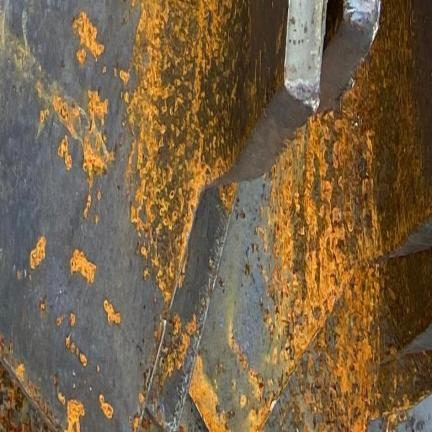karat: (266, 74, 432, 431), (128, 0, 284, 305), (354, 0, 431, 249), (70, 249, 96, 284), (30, 236, 46, 269)
